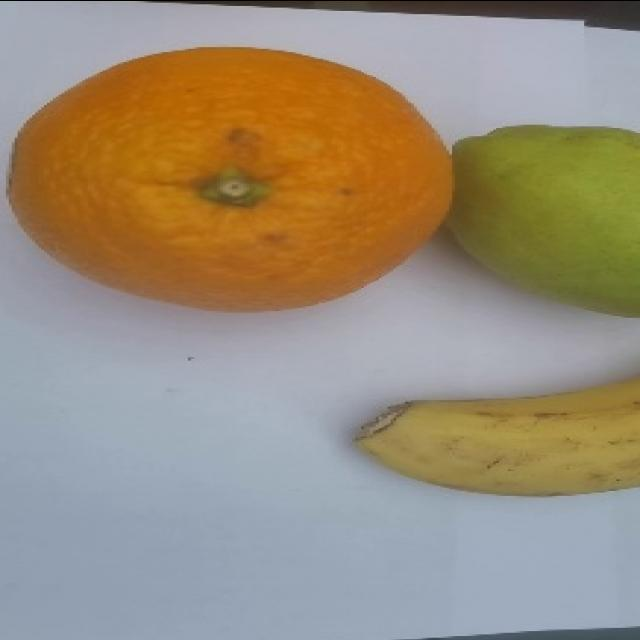Banana: (354, 373, 639, 497)
Orange: (6, 45, 453, 313)
